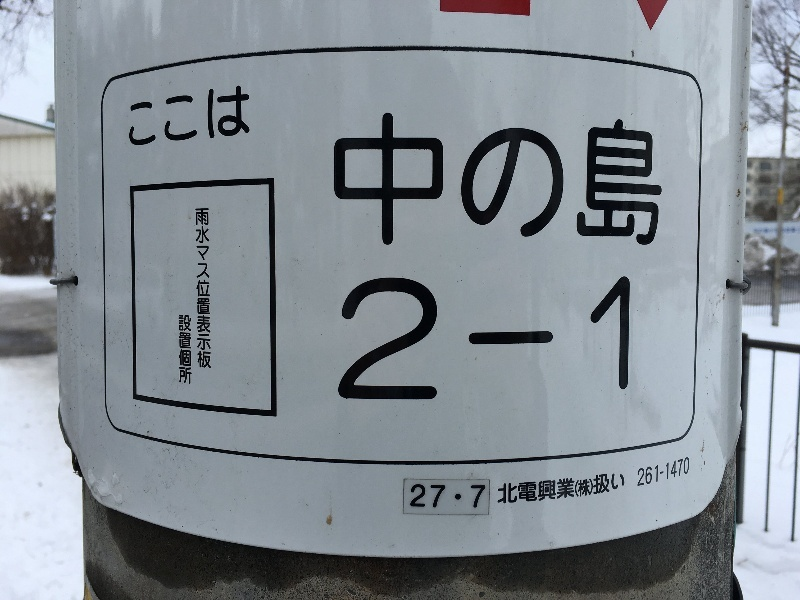text: (195, 208, 208, 369), (337, 111, 352, 248), (353, 111, 368, 248), (369, 111, 384, 248), (385, 111, 400, 248), (401, 111, 416, 248), (417, 111, 432, 248), (433, 111, 448, 248), (449, 111, 464, 248), (465, 111, 480, 248), (481, 111, 496, 248), (497, 111, 512, 248), (513, 111, 528, 248), (529, 111, 544, 248), (545, 111, 560, 248), (561, 111, 576, 248), (577, 111, 592, 248), (593, 111, 608, 248), (609, 111, 624, 248), (625, 111, 640, 248), (641, 111, 656, 248), (353, 276, 368, 408), (369, 276, 384, 408), (385, 276, 400, 408), (401, 276, 416, 408), (417, 276, 432, 408), (433, 276, 448, 408), (449, 276, 464, 408), (465, 276, 480, 408), (481, 276, 496, 408), (497, 276, 512, 408), (513, 276, 528, 408), (529, 276, 544, 408), (545, 276, 560, 408), (561, 276, 576, 408), (577, 276, 592, 408), (593, 276, 608, 408), (609, 276, 624, 408), (657, 111, 669, 248), (343, 276, 352, 408), (625, 276, 633, 408), (145, 83, 160, 147), (161, 83, 176, 147), (177, 83, 192, 147), (193, 83, 208, 147), (209, 83, 224, 147), (225, 83, 240, 147), (179, 315, 192, 384), (130, 83, 144, 147), (241, 83, 251, 147), (513, 473, 528, 506), (529, 473, 544, 506), (545, 473, 560, 506), (561, 473, 576, 506), (577, 473, 592, 506), (593, 473, 608, 506), (609, 473, 624, 506), (641, 457, 656, 487), (657, 457, 672, 487), (673, 457, 688, 487), (499, 473, 512, 506), (417, 484, 432, 511), (433, 484, 448, 511), (449, 484, 464, 511), (465, 484, 480, 511), (209, 208, 211, 369), (411, 484, 416, 511), (481, 484, 486, 511), (637, 457, 640, 487), (625, 473, 626, 506), (689, 457, 690, 487)
